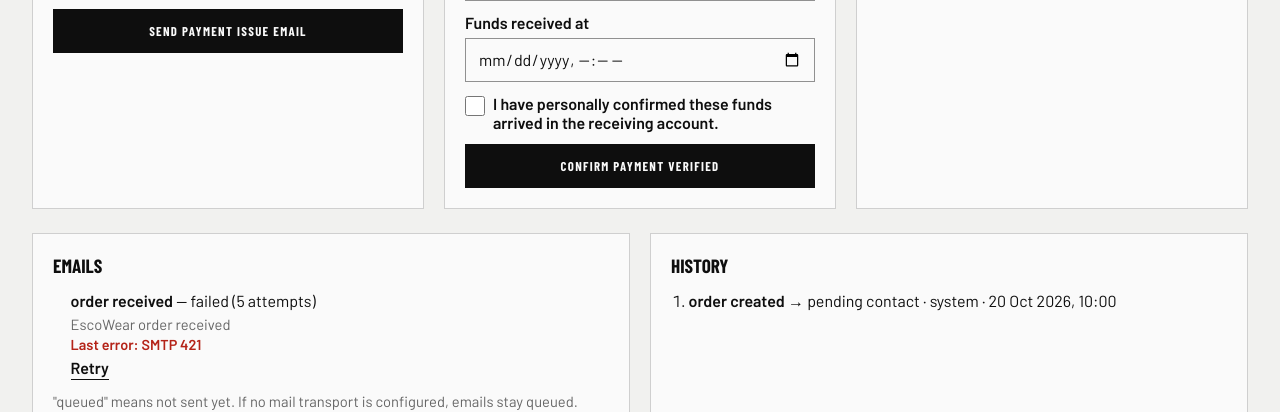
failed emails show their error and can be retried
(page scrolled)
Expected: the text "Last error: SMTP 421" is shown, x1=71 y1=336 x2=201 y2=353
Click the button "Retry": (90, 368) x1=71 y1=356 x2=109 y2=380
(page scrolled)
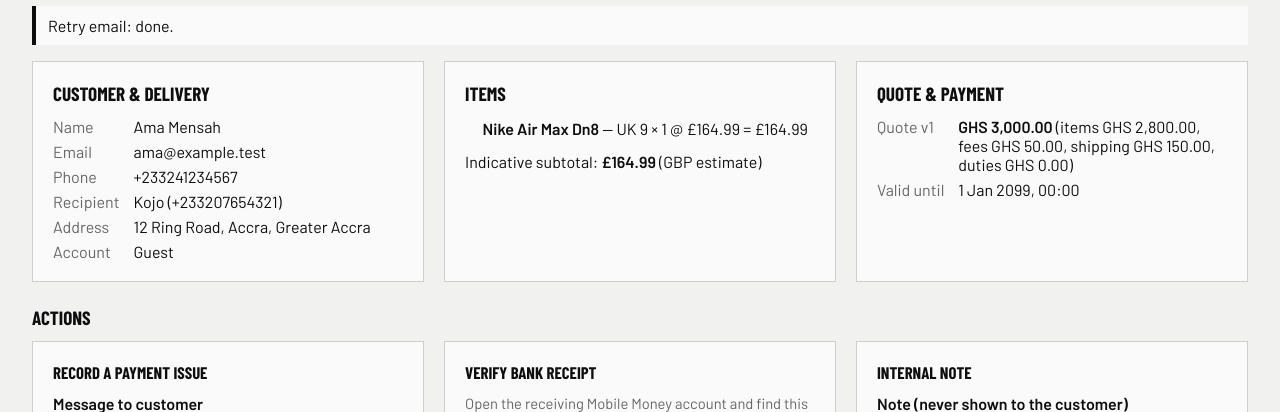
Now the text "Retry email: done." is shown, box x1=32 y1=6 x2=1248 y2=45
